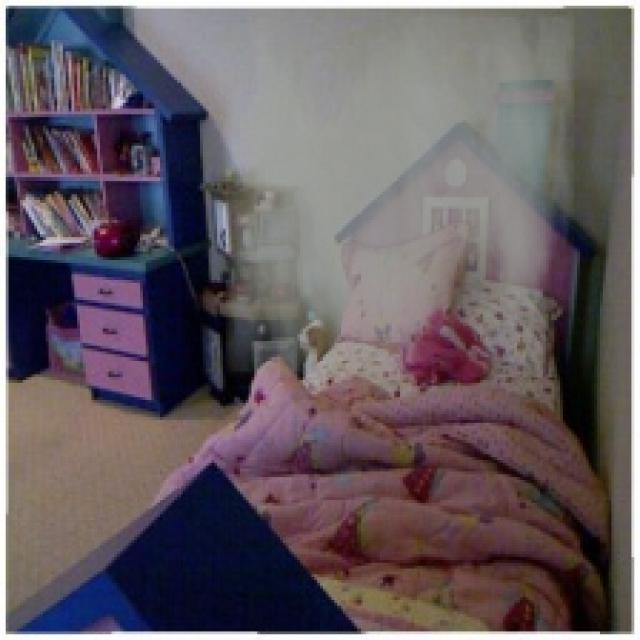Smoke: (226, 9, 574, 378)
